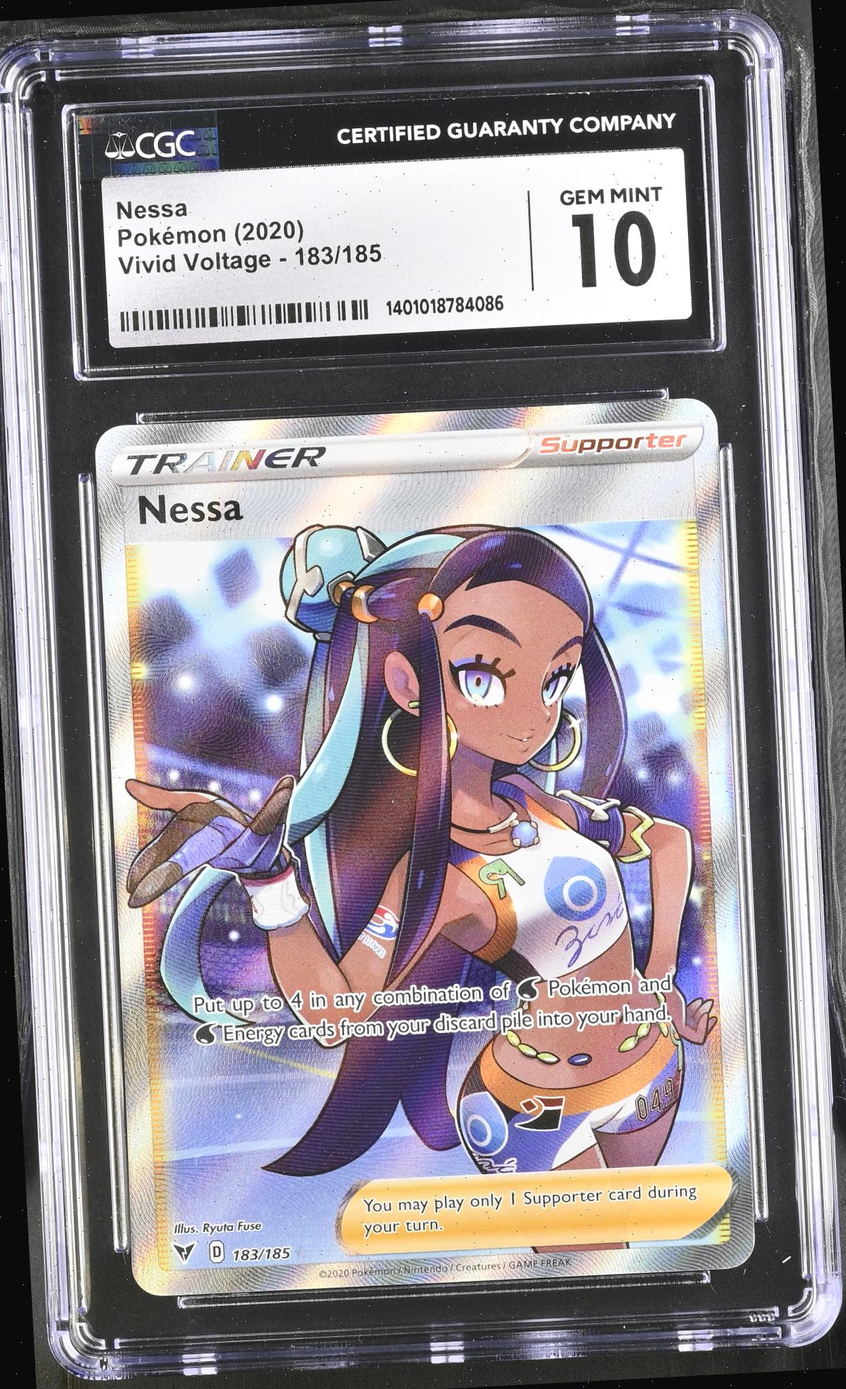card-2UtV: (94, 398, 755, 1296)
